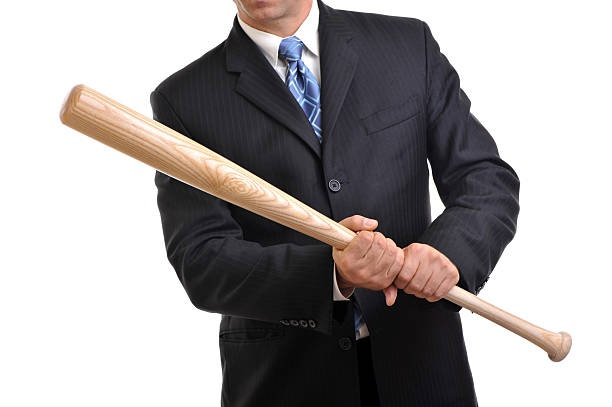bita: (59, 91, 569, 360)
